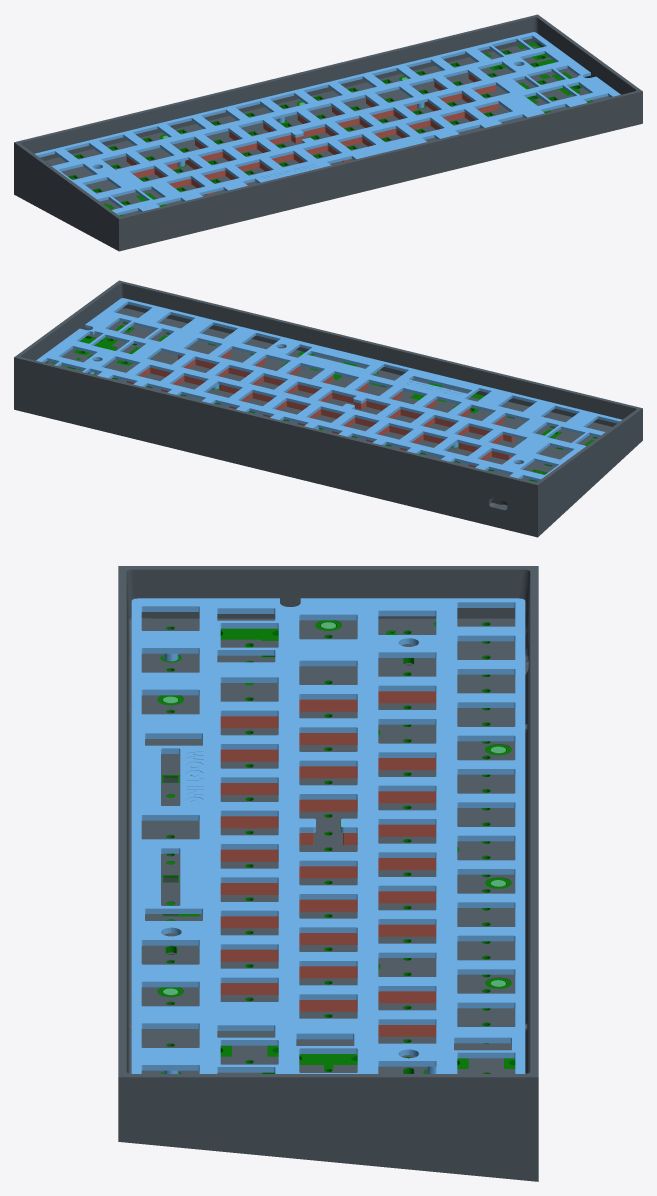
File: wooting-60he-v2-reference.glb
3 renders of one model, top to bottom at view 1: azimuth 30°, elevation 25°; view 2: azimuth 150°, elevation 25°; view 3: azimuth 270°, elevation 25°, orthographic. The views are drawn at different scales.
Parts seen in each view (by area): view 1: 60HE-V2_BOT-METAL-CASE_REF-ONLY-13, 60HE-V2_ANSI_SW-PLATE-0, 60HE-V2_PET-2, 60HE-V2_SANDWICH-FOAM-1, 60HE-V2_ANSI-PCB-3; view 2: 60HE-V2_BOT-METAL-CASE_REF-ONLY-13, 60HE-V2_ANSI_SW-PLATE-0, 60HE-V2_PET-2, 60HE-V2_SANDWICH-FOAM-1, 60HE-V2_ANSI-PCB-3; view 3: 60HE-V2_ANSI_SW-PLATE-0, 60HE-V2_BOT-METAL-CASE_REF-ONLY-13, 60HE-V2_PET-2, 60HE-V2_SANDWICH-FOAM-1, 60HE-V2_ANSI-PCB-3.
Part boxes in pixels (x1,y1,x2,y2): 60HE-V2_BOT-METAL-CASE_REF-ONLY-13: (14, 14, 642, 251); 60HE-V2_ANSI_SW-PLATE-0: (35, 32, 620, 215); 60HE-V2_PET-2: (45, 46, 609, 215); 60HE-V2_SANDWICH-FOAM-1: (126, 73, 498, 195); 60HE-V2_ANSI-PCB-3: (68, 42, 592, 216); 60HE-V2_BOT-METAL-CASE_REF-ONLY-13: (14, 280, 642, 537); 60HE-V2_ANSI_SW-PLATE-0: (36, 298, 621, 481); 60HE-V2_PET-2: (47, 308, 611, 482); 60HE-V2_SANDWICH-FOAM-1: (126, 350, 515, 467); 60HE-V2_ANSI-PCB-3: (51, 322, 595, 481); 60HE-V2_ANSI_SW-PLATE-0: (131, 598, 525, 1073); 60HE-V2_BOT-METAL-CASE_REF-ONLY-13: (118, 566, 538, 1181); 60HE-V2_PET-2: (141, 618, 515, 1073); 60HE-V2_SANDWICH-FOAM-1: (220, 691, 436, 1036); 60HE-V2_ANSI-PCB-3: (157, 620, 515, 1073).
Size of the model in its own units: 292 by 27.84 by 101.
